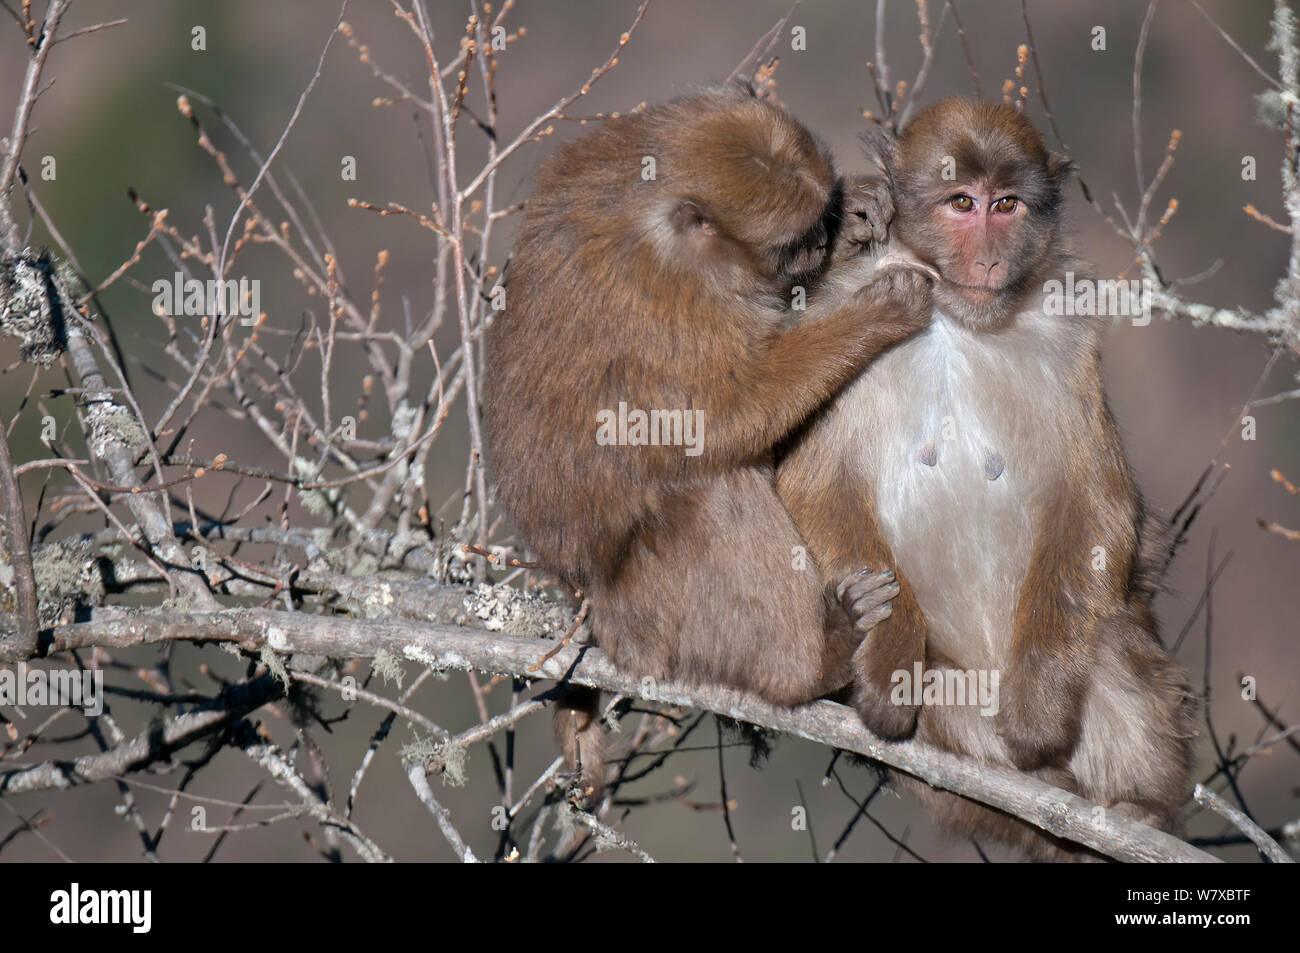monkey: (793, 94, 1203, 857), (486, 76, 914, 771)
